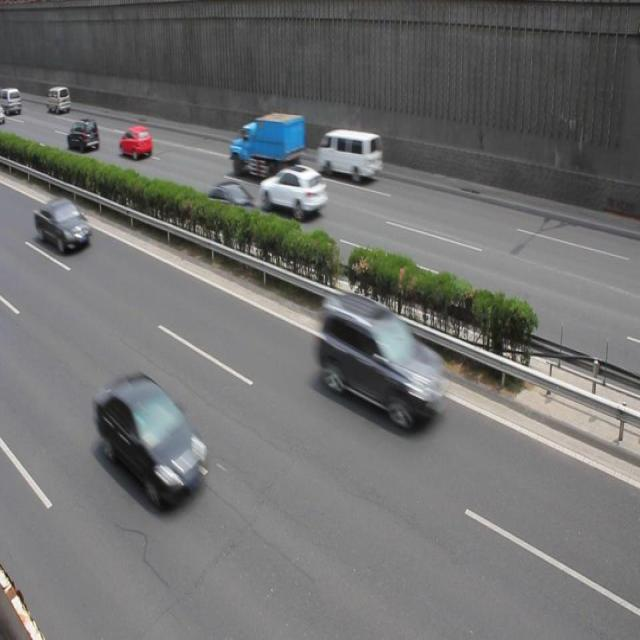bus: (228, 117, 304, 182)
car: (313, 292, 444, 429), (92, 373, 206, 505), (258, 164, 329, 219), (34, 195, 90, 253), (199, 181, 256, 223), (117, 125, 152, 161), (68, 117, 100, 152)
truck: (314, 128, 382, 184)
